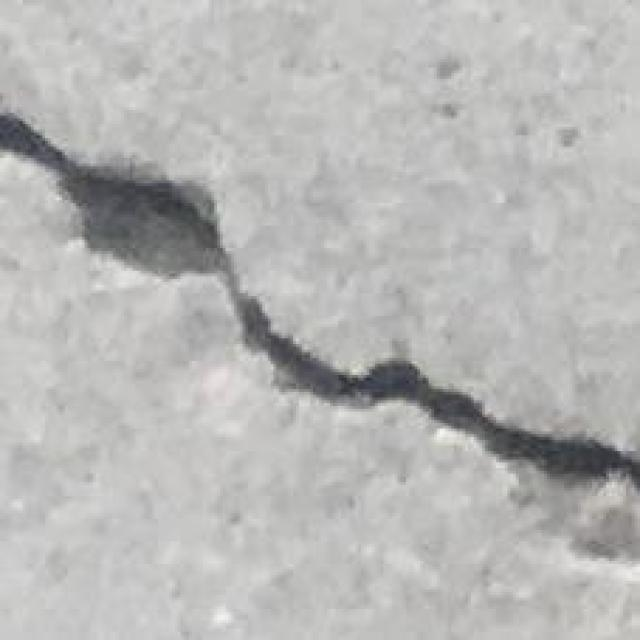Crack: (3, 113, 640, 544)
